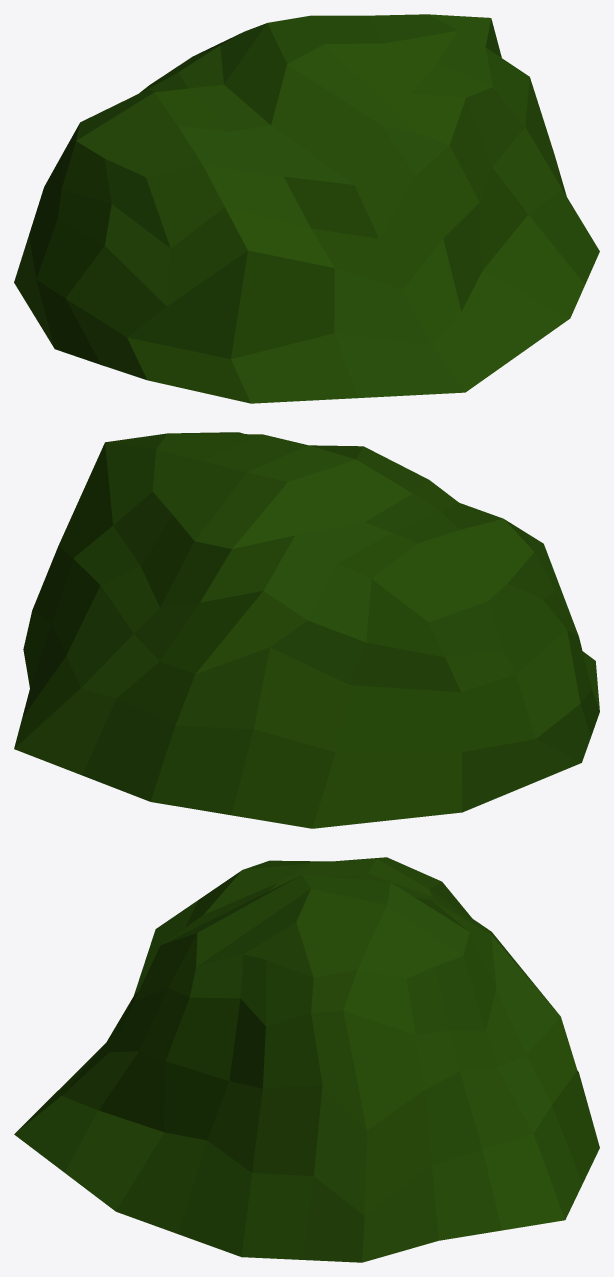
File: wf_hill_1..fbx
3 views of the same model, one above another, from view 1: azimuth 30°, elevation 25°; view 2: azimuth 150°, elevation 25°; view 3: azimuth 270°, elevation 25° (orthographic). The views are drawn at different scales.
Parts seen in each view (by area): view 1: Cube.003; view 2: Cube.003; view 3: Cube.003.
Part boxes in pixels (x1=…): Cube.003: x1=14, y1=14, x2=599, y2=403; Cube.003: x1=14, y1=432, x2=599, y2=828; Cube.003: x1=14, y1=857, x2=599, y2=1262.
Size of the model in its own units: 213 by 96.58 by 203.
